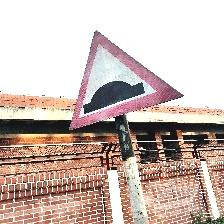Speed-breaker: (69, 32, 185, 130)
